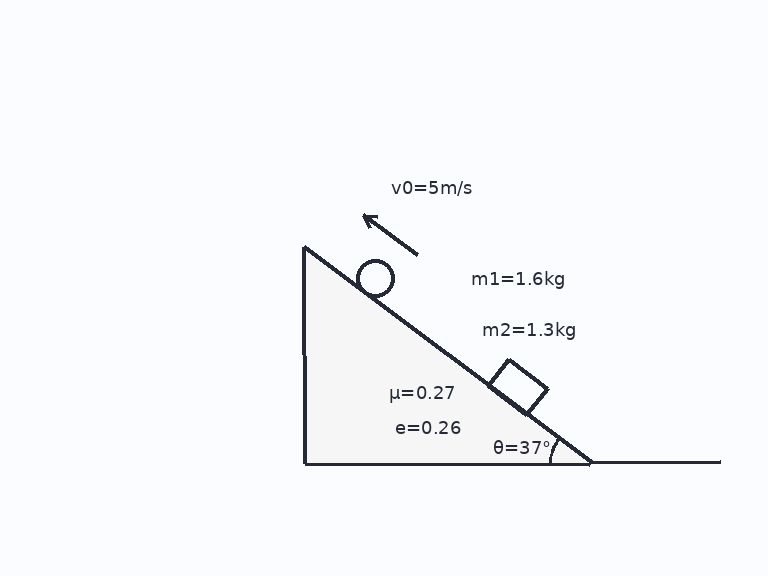ball: (354, 257, 396, 299)
block: (487, 357, 548, 417)
ramp: (302, 246, 592, 465)
